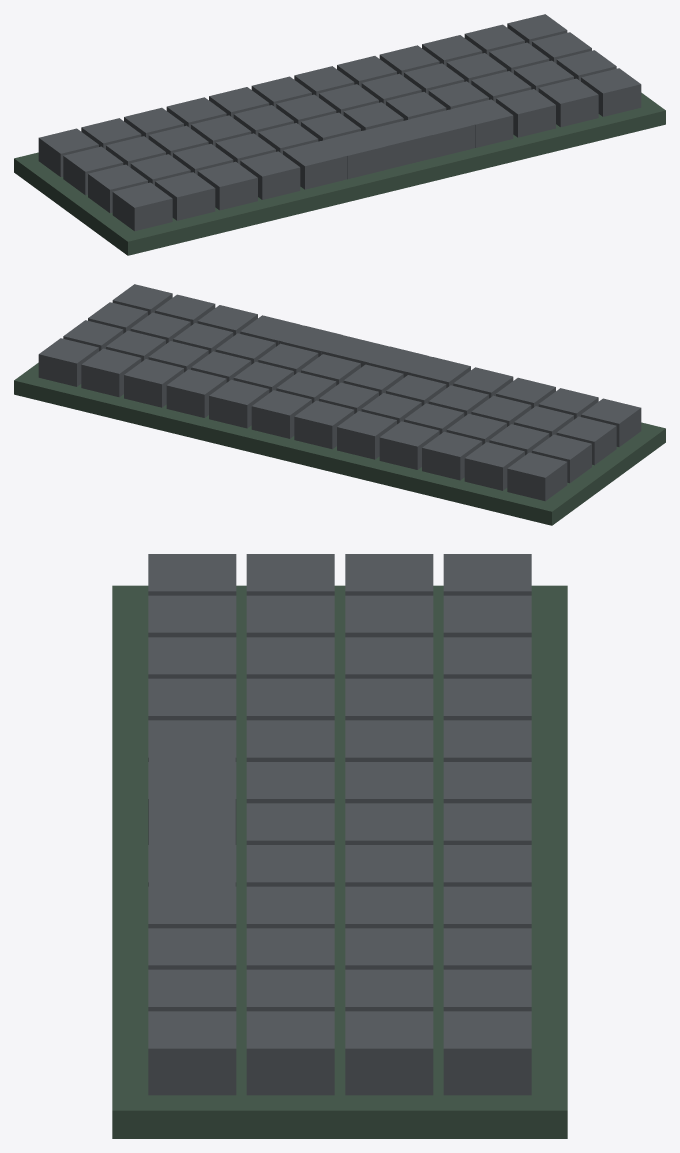
The model's file is keyboard-sb-ortho48.glb.
3 renders of one model, top to bottom at view 1: azimuth 30°, elevation 25°; view 2: azimuth 150°, elevation 25°; view 3: azimuth 270°, elevation 25°, orthographic. The views are drawn at different scales.
Parts seen in each view (by area): view 1: geometry_0, geometry_43, geometry_37, geometry_38, geometry_48, geometry_39, geometry_47, geometry_40, geometry_46, geometry_41, geometry_45, geometry_1 (+37 smaller); view 2: geometry_0, geometry_43, geometry_1, geometry_7, geometry_2, geometry_12, geometry_3, geometry_8, geometry_9, geometry_6, geometry_11, geometry_4 (+37 smaller); view 3: geometry_0, geometry_12, geometry_24, geometry_36, geometry_48, geometry_43, geometry_2, geometry_4, geometry_9, geometry_11, geometry_14, geometry_16 (+37 smaller).
Boxes of the visible parts, x1=… form: geometry_0: x1=14, y1=92, x2=665, y2=255; geometry_43: x1=319, y1=108, x2=476, y2=180; geometry_37: x1=112, y1=182, x2=172, y2=231; geometry_38: x1=155, y1=172, x2=215, y2=220; geometry_48: x1=581, y1=68, x2=641, y2=116; geometry_39: x1=197, y1=161, x2=257, y2=210; geometry_47: x1=538, y1=78, x2=598, y2=127; geometry_40: x1=240, y1=151, x2=300, y2=199; geometry_46: x1=496, y1=89, x2=555, y2=137; geometry_41: x1=283, y1=141, x2=342, y2=189; geometry_45: x1=454, y1=99, x2=513, y2=147; geometry_1: x1=38, y1=128, x2=98, y2=176; geometry_0: x1=14, y1=362, x2=665, y2=525; geometry_43: x1=278, y1=324, x2=434, y2=375; geometry_1: x1=507, y1=452, x2=567, y2=501; geometry_7: x1=251, y1=390, x2=311, y2=438; geometry_2: x1=464, y1=442, x2=524, y2=490; geometry_12: x1=38, y1=338, x2=98, y2=386; geometry_3: x1=422, y1=431, x2=482, y2=480; geometry_8: x1=209, y1=379, x2=269, y2=428; geometry_9: x1=166, y1=369, x2=226, y2=417; geometry_6: x1=294, y1=400, x2=354, y2=449; geometry_11: x1=81, y1=348, x2=141, y2=397; geometry_4: x1=379, y1=421, x2=439, y2=469; geometry_0: x1=112, y1=585, x2=567, y2=1138; geometry_12: x1=443, y1=1011, x2=531, y2=1095; geometry_24: x1=345, y1=1011, x2=433, y2=1095; geometry_36: x1=246, y1=1011, x2=334, y2=1095; geometry_48: x1=148, y1=1011, x2=236, y2=1095; geometry_43: x1=149, y1=757, x2=235, y2=888; geometry_2: x1=443, y1=595, x2=531, y2=637; geometry_4: x1=443, y1=678, x2=531, y2=720; geometry_9: x1=443, y1=886, x2=531, y2=928; geometry_11: x1=443, y1=969, x2=531, y2=1011; geometry_14: x1=345, y1=595, x2=433, y2=637; geometry_16: x1=345, y1=678, x2=433, y2=720.
Size of the model in its own units: 0.24 by 0.016 by 0.088.
